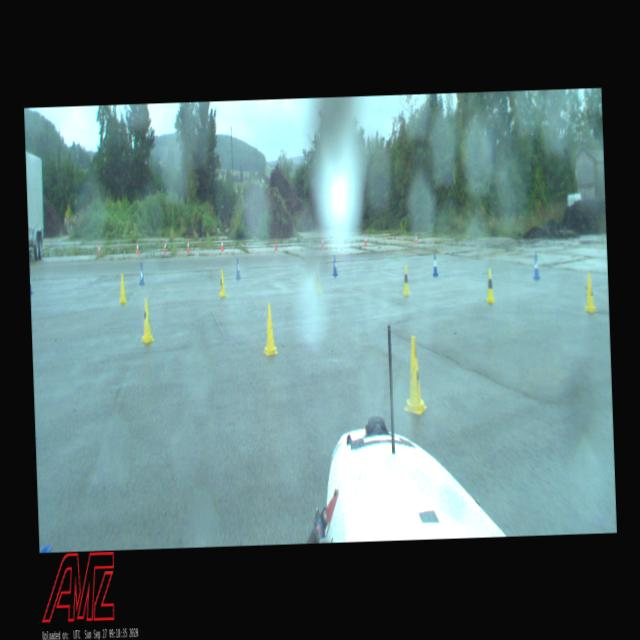blue_cone: (532, 254, 540, 280), (432, 252, 438, 276), (234, 257, 240, 280), (138, 264, 144, 285), (332, 256, 338, 276), (30, 270, 32, 294)
orange_cone: (362, 233, 367, 244), (320, 235, 324, 248), (274, 237, 277, 250), (414, 232, 417, 244), (220, 238, 223, 250), (187, 238, 189, 251), (136, 240, 138, 253), (164, 240, 166, 252)
yellow_cone: (401, 336, 426, 416), (262, 304, 278, 356), (139, 298, 154, 342), (583, 276, 595, 312), (485, 268, 495, 303), (400, 265, 410, 295), (118, 274, 126, 303), (218, 270, 226, 296), (315, 270, 322, 293)
